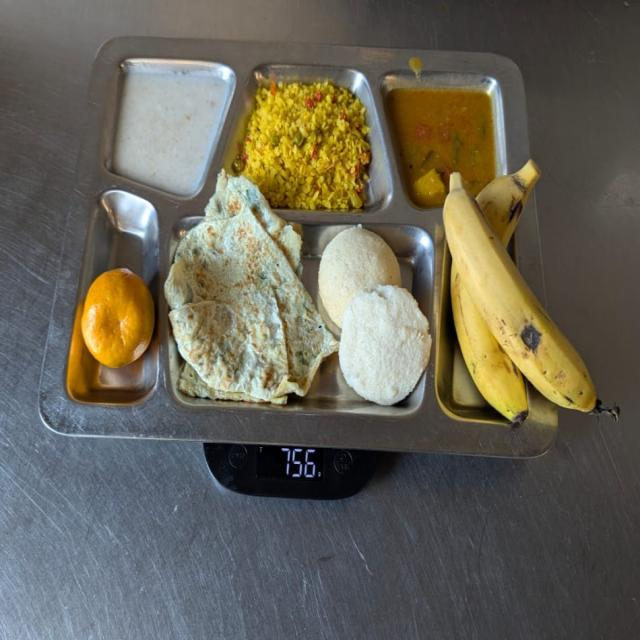Banana: (440, 160, 601, 431)
Idli: (318, 226, 432, 408)
Omelette: (168, 168, 324, 408)
Orange: (79, 267, 156, 370)
Poha: (240, 83, 372, 208)
Porridge: (110, 57, 230, 200)
Sambhar: (383, 80, 498, 174)
